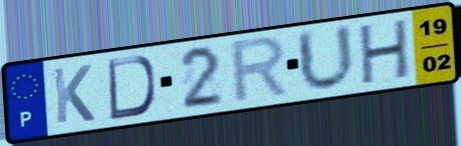2: (177, 44, 226, 112)
D: (105, 54, 159, 123)
H: (358, 16, 412, 88)
K: (50, 63, 98, 127)
R: (230, 33, 293, 107)
U: (293, 21, 359, 94)
